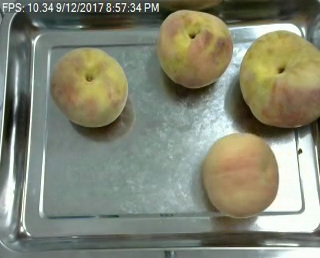Peach: (238, 28, 319, 127), (201, 132, 279, 218), (50, 46, 128, 128), (157, 9, 232, 88)
